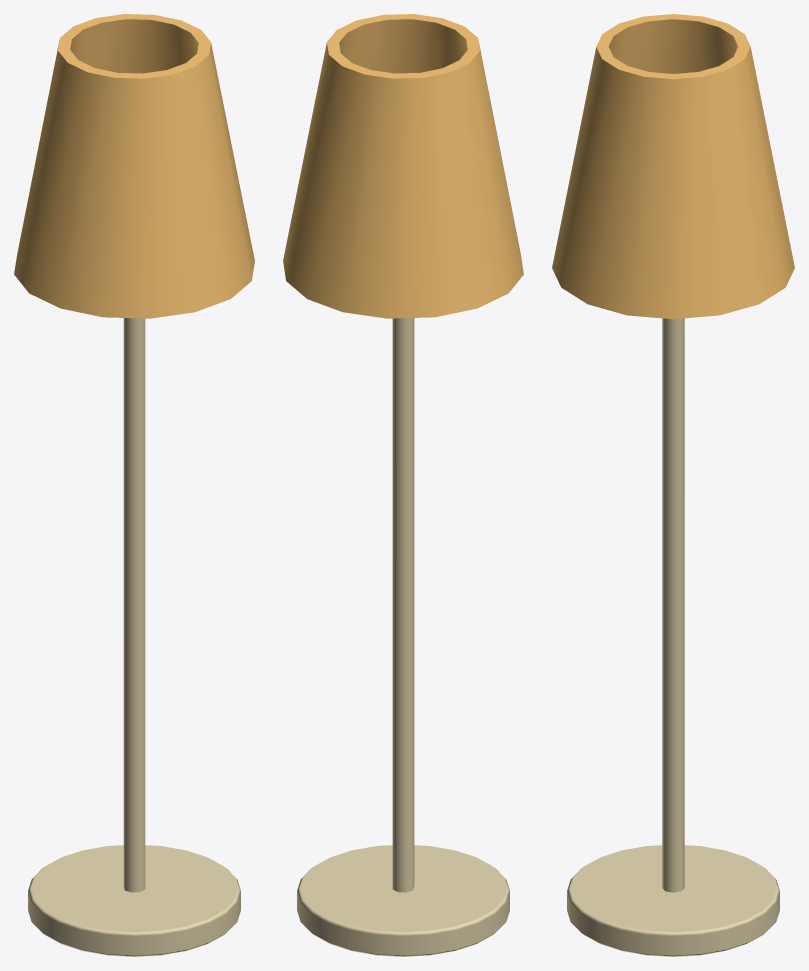
The model's file is lamp1.glb.
3 views of the same model, side by side, from view 1: azimuth 30°, elevation 25°; view 2: azimuth 150°, elevation 25°; view 3: azimuth 270°, elevation 25° (orthographic).
Visible parts, largest first — view 1: Cylinder 7 (×2), Cylinder 8; view 2: Cylinder 7 (×2), Cylinder 8; view 3: Cylinder 7 (×2), Cylinder 8.
Part boxes in pixels (left/top/right/bottom): Cylinder 7 (×2): left=14, top=14, right=254, bottom=956; Cylinder 8: left=123, top=318, right=145, bottom=892; Cylinder 7 (×2): left=283, top=14, right=523, bottom=956; Cylinder 8: left=392, top=318, right=414, bottom=892; Cylinder 7 (×2): left=552, top=14, right=794, bottom=956; Cylinder 8: left=662, top=318, right=684, bottom=892.
Bounding box in the file's own units: 0.9561 × 3.76 × 0.9561.
